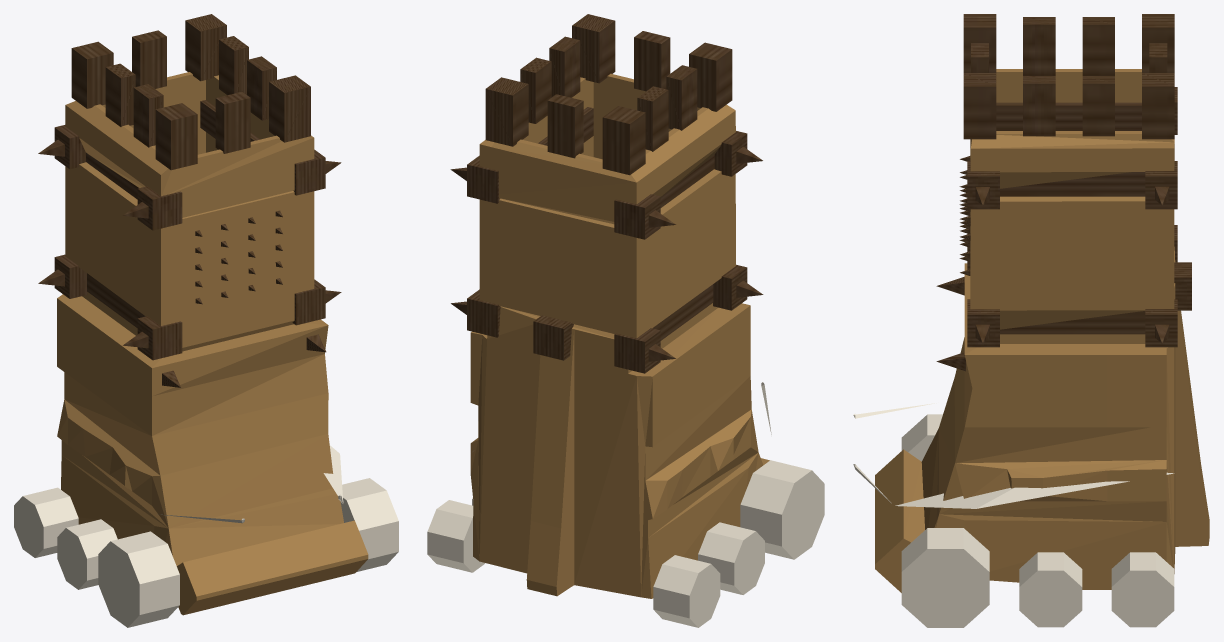
Rendered from ae_siege_tower_open_lod1.glb.
3 views of the same model, side by side, from view 1: azimuth 30°, elevation 25°; view 2: azimuth 150°, elevation 25°; view 3: azimuth 270°, elevation 25° (orthographic). The views are drawn at different scales.
Parts seen in each view (by area): view 1: siege_tower_open; view 2: siege_tower_open; view 3: siege_tower_open.
Boxes of the visible parts, x1=… form: siege_tower_open: x1=14, y1=14, x2=398, y2=627; siege_tower_open: x1=427, y1=14, x2=824, y2=627; siege_tower_open: x1=853, y1=14, x2=1209, y2=627.
Bounding box in the file's own units: 46.39 × 82.22 × 51.97.
Materials: 3 (2 with a texture image).
